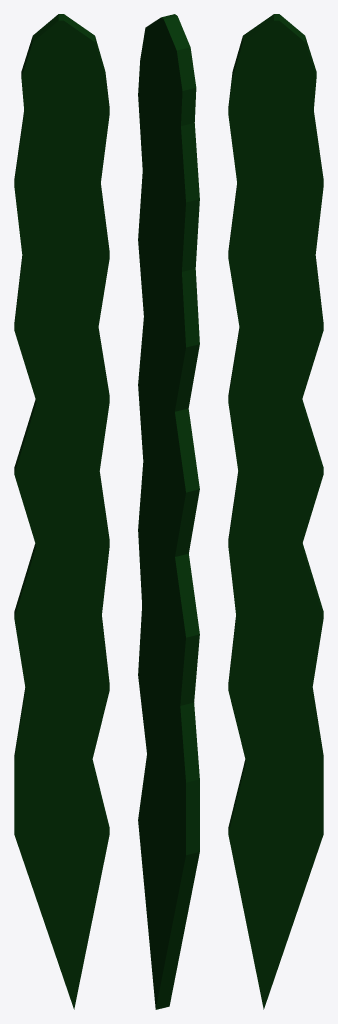
File: alga.glb
The picture shows the model from 3 angles, left to right: view 1: azimuth 90°, elevation 25°; view 2: azimuth 210°, elevation 25°; view 3: azimuth 270°, elevation 25°; orthographic projection.
Parts seen in each view (by area): view 1: Kelp; view 2: Kelp; view 3: Kelp.
Part boxes in pixels (x1=…): Kelp: x1=14, y1=14, x2=109, y2=1009; Kelp: x1=138, y1=14, x2=199, y2=1009; Kelp: x1=228, y1=14, x2=323, y2=1009.
Size of the model in its own units: 0.0203 by 1.37 by 0.12.
